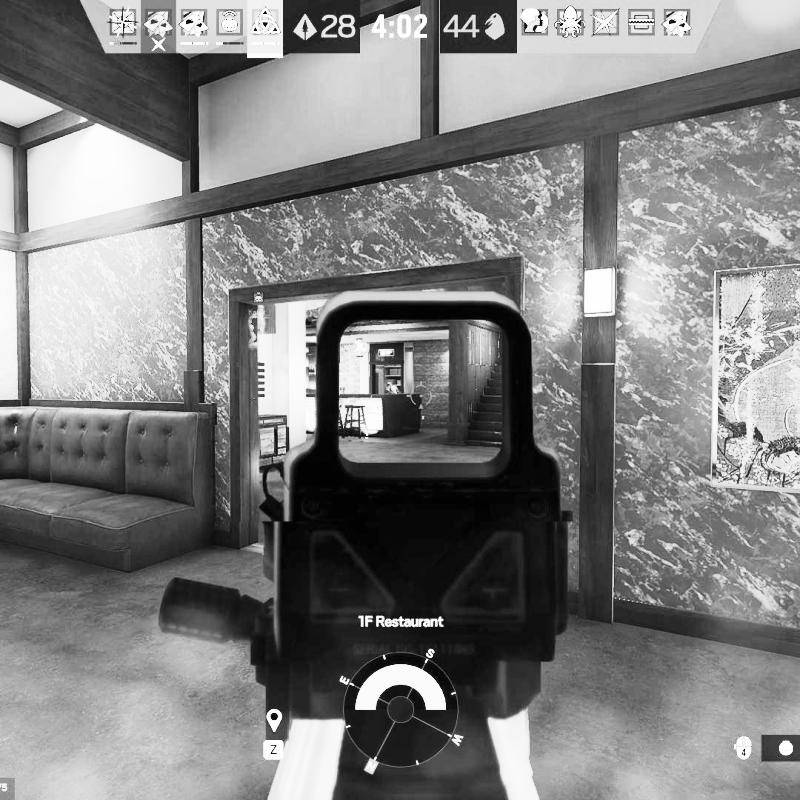Character: (384, 381, 401, 394)
Friend_label: (246, 291, 272, 317)
